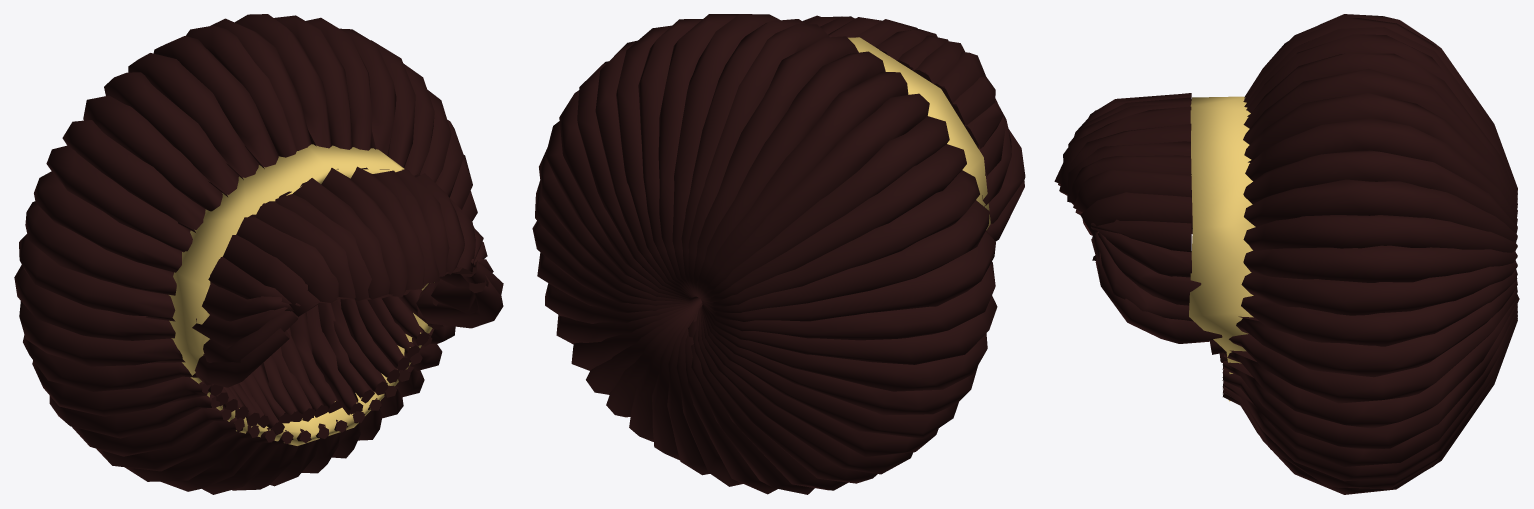
The model's file is hair-9-500ad0d8.glb.
The picture shows the model from 3 angles, left to right: view 1: azimuth 30°, elevation 25°; view 2: azimuth 150°, elevation 25°; view 3: azimuth 270°, elevation 25°; orthographic projection. The views are drawn at different scales.
Parts seen in each view (by area): view 1: hair_9.001; view 2: hair_9.001; view 3: hair_9.001.
Part boxes in pixels (x1,y1,x2,y2): hair_9.001: [14, 14, 503, 494]; hair_9.001: [532, 14, 1025, 494]; hair_9.001: [1054, 14, 1519, 494].
Size of the model in its own units: 2.77 by 2.79 by 2.68.
